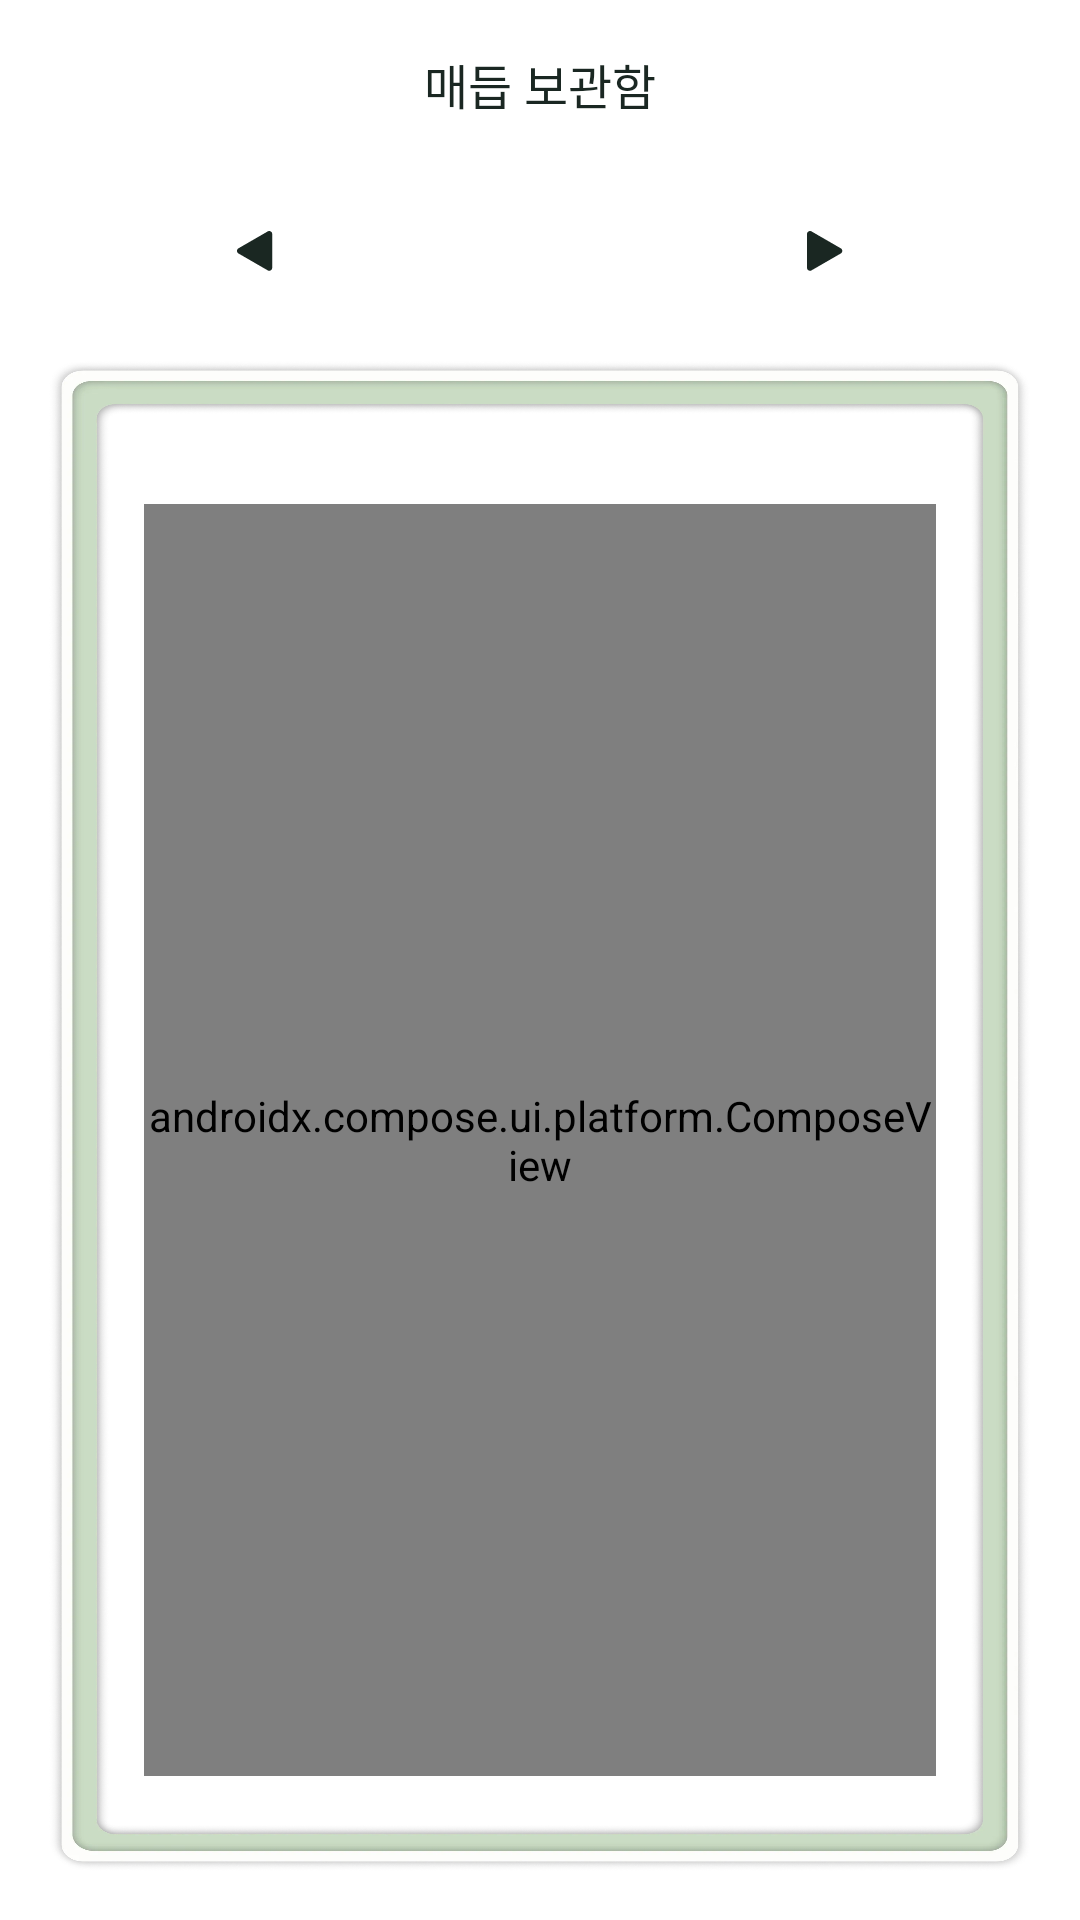

Named icons in this screenshot (1080 x 1920) and their centers, (x=x, y=y):
arrow left: (x=255, y=251)
arrow right: (x=825, y=251)
